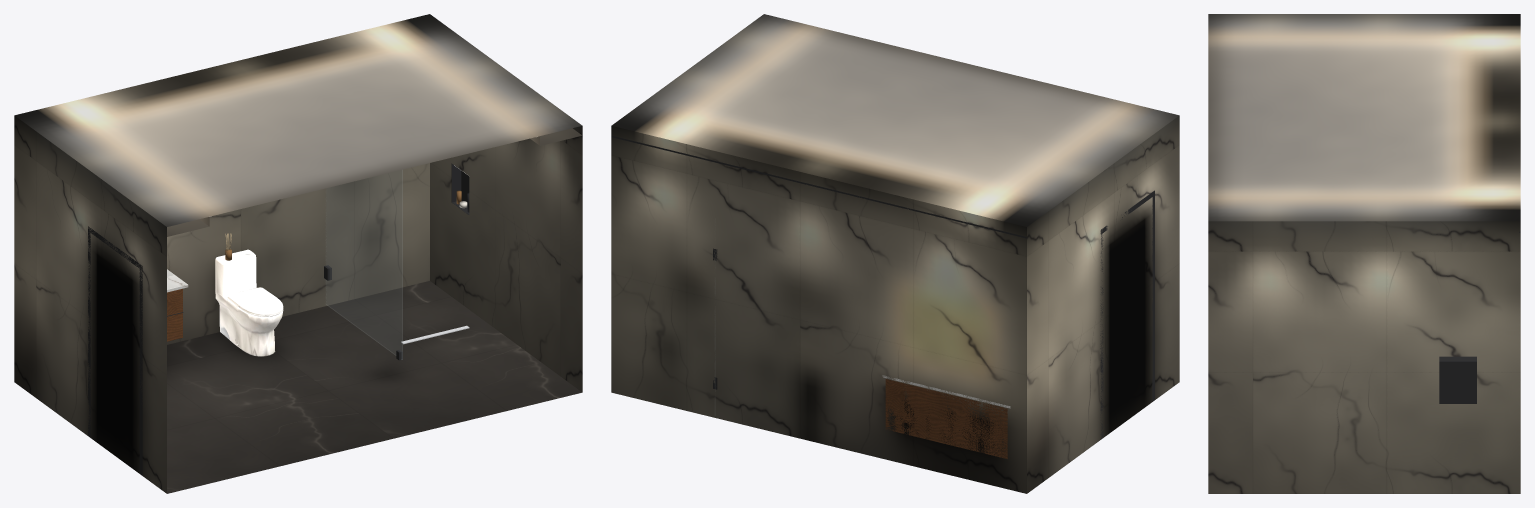
Rendered from bath_v6.glb.
The picture shows the model from 3 angles, left to right: view 1: azimuth 30°, elevation 25°; view 2: azimuth 150°, elevation 25°; view 3: azimuth 270°, elevation 25°; orthographic projection. The views are drawn at different scales.
Parts seen in each view (by area): view 1: Shell_Ceiling, Shell_Floor, Shell_Left Wall, Shell_Right Wall, Shell_Back Wall, Glass Panel, LM_Toilet, Door Frame, LM_Vanity, Niche; view 2: Shell_Back Wall, Shell_Ceiling, Shell_Left Wall, LM_Vanity, Door Frame, Shadow Gap; view 3: Shell_Right Wall, Shell_Ceiling, Niche.
Part boxes in pixels (left/top/right/bottom): Shell_Ceiling: left=15, top=14, right=582, bottom=226; Shell_Floor: left=167, top=281, right=581, bottom=493; Shell_Left Wall: left=14, top=115, right=166, bottom=493; Shell_Right Wall: left=430, top=126, right=582, bottom=392; Shell_Back Wall: left=167, top=163, right=429, bottom=344; Glass Panel: left=326, top=170, right=402, bottom=359; LM_Toilet: left=215, top=249, right=283, bottom=356; Door Frame: left=88, top=226, right=142, bottom=475; LM_Vanity: left=167, top=269, right=188, bottom=341; Niche: left=451, top=163, right=469, bottom=214; Shell_Back Wall: left=611, top=126, right=1026, bottom=493; Shell_Ceiling: left=611, top=14, right=1178, bottom=226; Shell_Left Wall: left=1027, top=115, right=1179, bottom=493; LM_Vanity: left=882, top=375, right=1010, bottom=458; Door Frame: left=1100, top=190, right=1154, bottom=439; Shadow Gap: left=611, top=135, right=1027, bottom=238; Shell_Right Wall: left=1208, top=221, right=1520, bottom=493; Shell_Ceiling: left=1208, top=14, right=1520, bottom=221; Niche: left=1439, top=356, right=1476, bottom=403.
Bounding box in the file's own units: 4.51 × 2.7 × 2.8.
18 materials, 7 textured.
